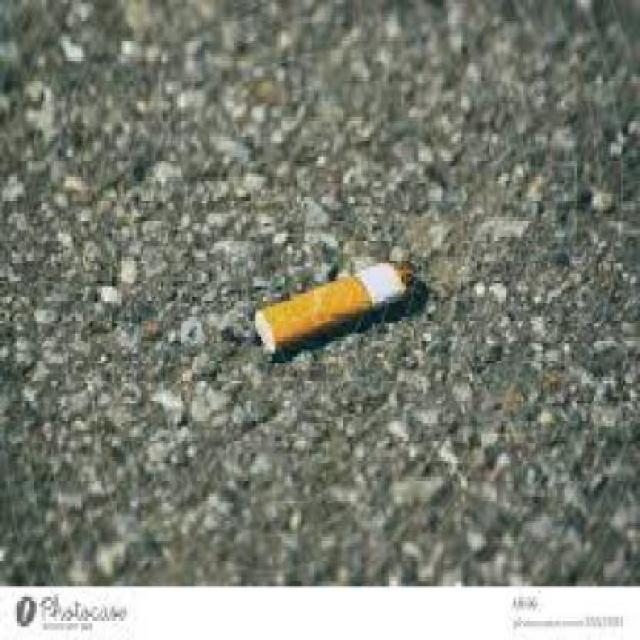cigarette: (239, 246, 426, 363)
